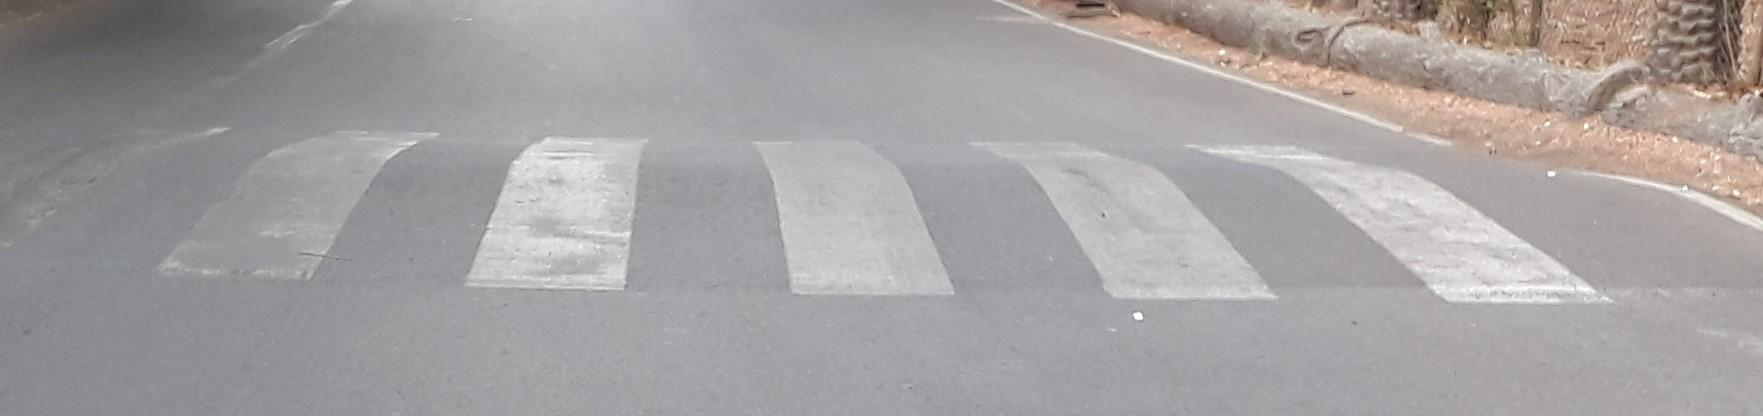speed-bump: (7, 110, 1761, 284)
